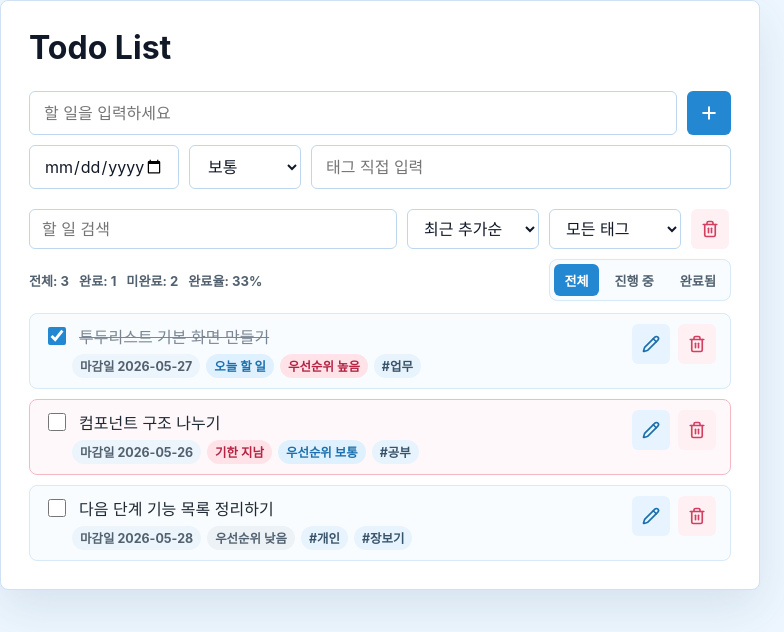
Scenario: TodoApp › 진행 중 필터가 미완료 할 일만 보여준다.
Click the button "진행 중" at [634, 280], box [604,264,664,296]
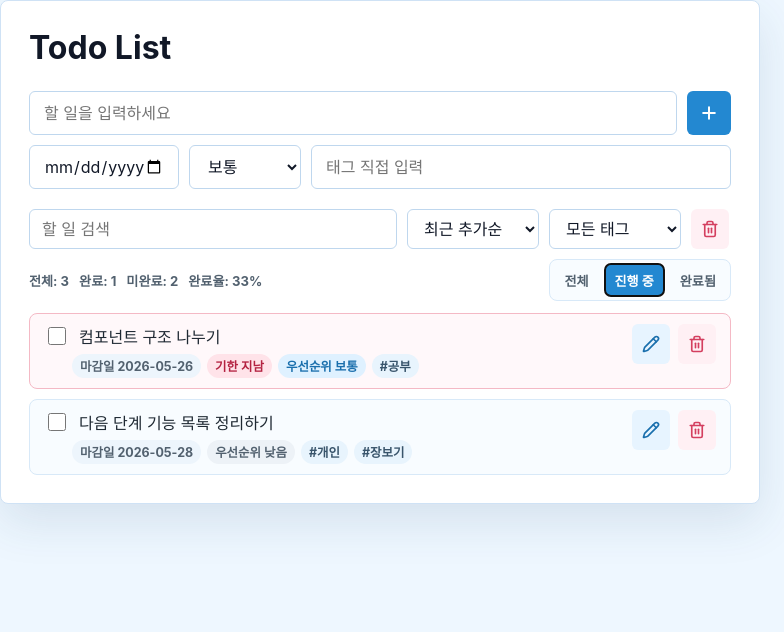
Check: the text "컴포넌트 구조 나누기" is shown, box [79,324,220,348]
Check: the text "투두리스트 기본 화면 만들기" is gone
